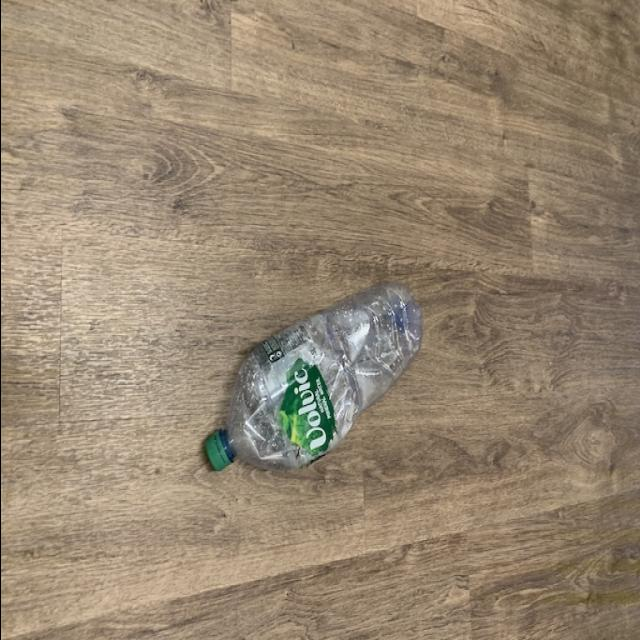litter: (195, 278, 422, 480)
